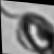not correct: (0, 3, 54, 54)
